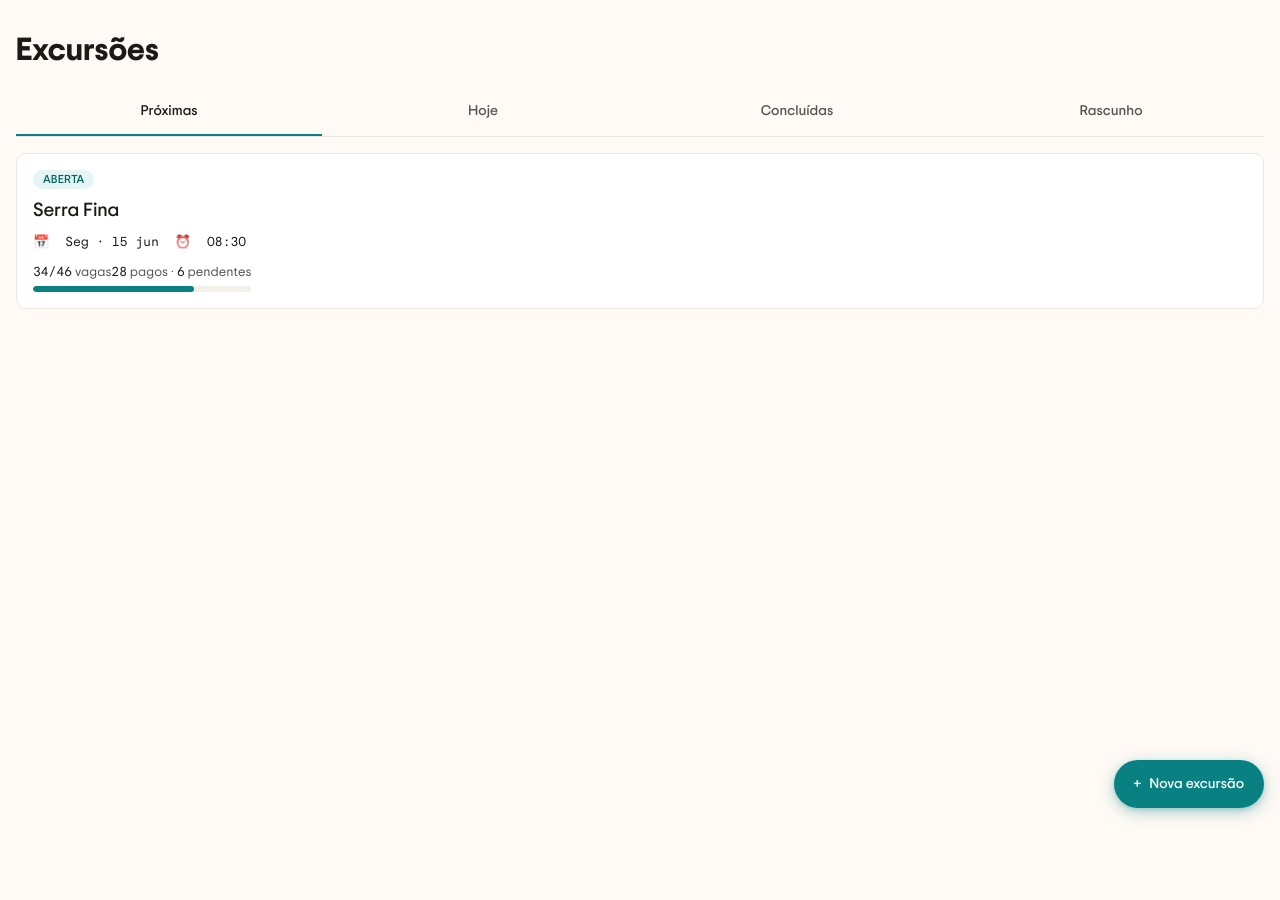
Test case: ExcursoesListPage › troca de filtro e recarrega a lista
expect the text "Serra Fina" is shown: met, box [33, 201, 119, 220]
Click the tab "Rascunho". click: click(1111, 112)
box: [958, 88, 1264, 136]
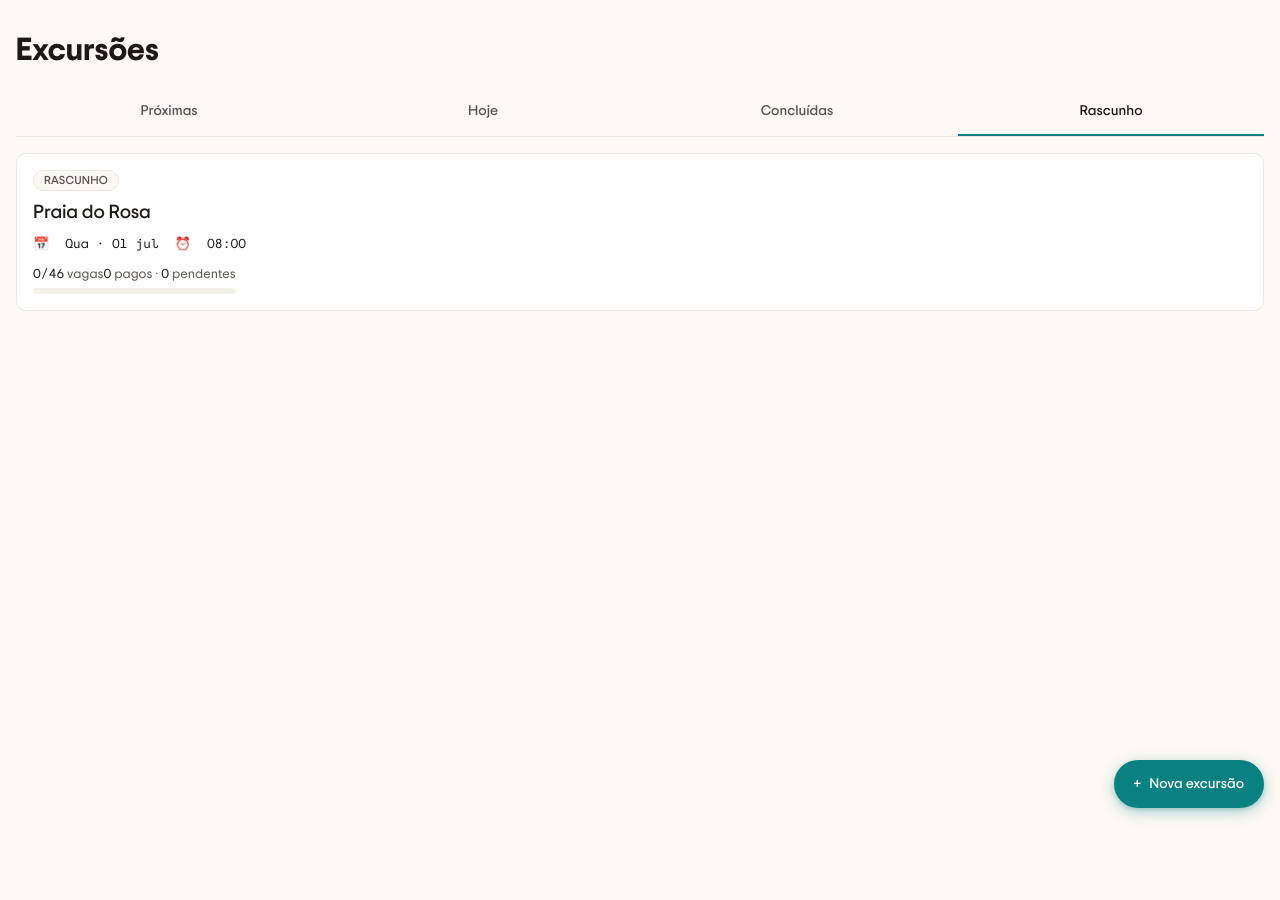
expect the text "Praia do Rosa" is shown: met, box [33, 203, 151, 222]
